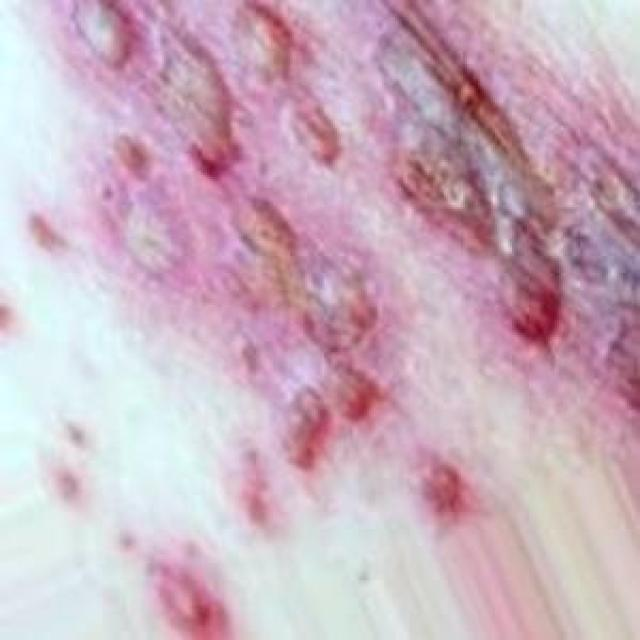Shingles: (71, 0, 602, 637)
